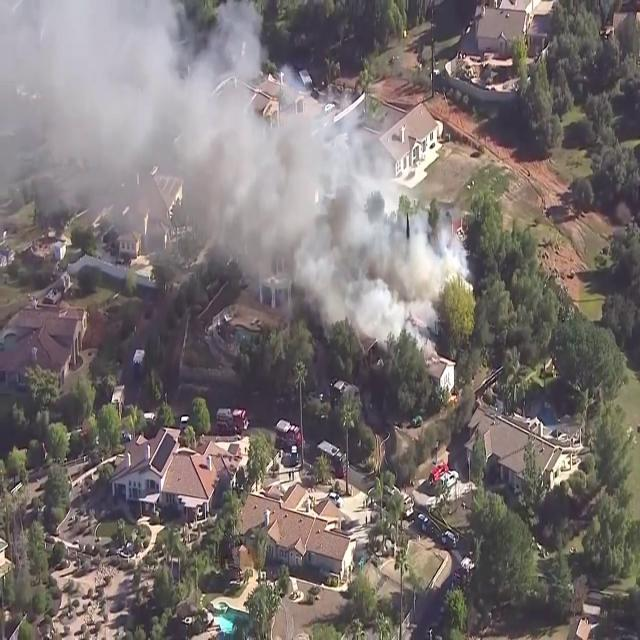Smoke: (0, 1, 469, 340)
